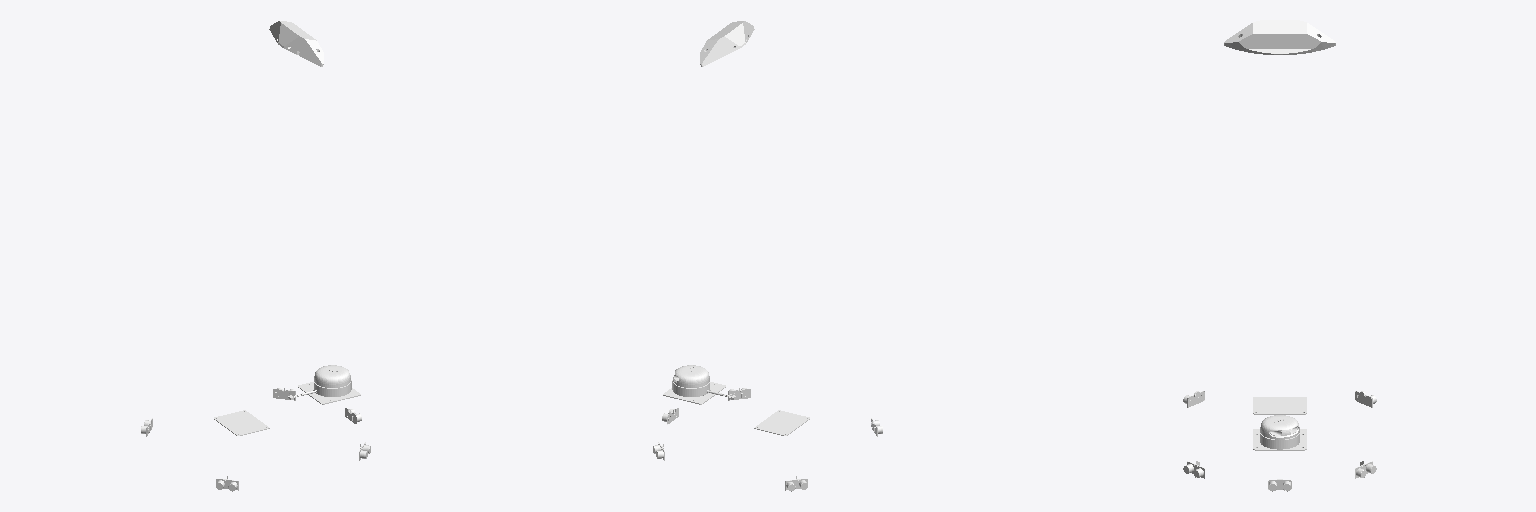
robot.urdf — xtark_description:
<?xml version="1.0" encoding="utf-8"?>
<!-- This URDF was automatically created by SolidWorks to URDF Exporter! Originally created by Stephen Brawner ([email redacted]) 
     Commit Version: 1.6.0-1-g15f4949  Build Version: 1.6.7594.29634
     For more information, please see http://wiki.ros.org/sw_urdf_exporter -->
<robot
  name="xtark_description">
  <link
    name="base_link">
    <visual>
      <origin
        xyz="0 0 0"
        rpy="0 0 0" />
      <geometry>
        <mesh
          filename="package://xtark_description/meshes/base_link.STL" />
      </geometry>
      <material
        name="">
        <color
          rgba="0.89804 0.91765 0.92941 1" />
      </material>
    </visual>
    <collision>
      <origin
        xyz="0 0 0"
        rpy="0 0 0" />
      <geometry>
        <mesh
          filename="package://xtark_description/meshes/base_link.STL" />
      </geometry>
    </collision>
  </link>
   <link
          name="base_footprint"/>
  <joint
      name="base_footprint_joint"
      type="fixed">
      <origin
        xyz="0 0 -0.06"
        rpy="0 0 0" />
      <parent
        link="base_link" />
      <child
        link="base_footprint" />
  </joint>
  <link
    name="laser">
    <inertial>
      <origin
        xyz="-0.00140700524011977 0.000833758220548153 -0.010351045304507"
        rpy="0 0 0" />
      <mass
        value="0.0613730463460779" />
      <inertia
        ixx="3.12015849790788E-05"
        ixy="7.04150622406887E-07"
        ixz="-1.08649445088874E-07"
        iyy="2.64093008021745E-05"
        iyz="-5.42268690361595E-08"
        izz="5.61220060035833E-05" />
    </inertial>
    <visual>
      <origin
        xyz="0 0 0"
        rpy="0 0 0" />
      <geometry>
        <mesh
          filename="package://xtark_description/meshes/laser_link.STL" />
      </geometry>
      <material
        name="">
        <color
          rgba="1 1 1 1" />
      </material>
    </visual>
    <collision>
      <origin
        xyz="0 0 0"
        rpy="0 0 0" />
      <geometry>
        <mesh
          filename="package://xtark_description/meshes/laser_link.STL" />
      </geometry>
    </collision>
  </link>
  <joint
    name="laser_joint"
    type="fixed">
    <origin
      xyz="0.175 0 0.1235"
      rpy="0 0 0" />
    <parent
      link="base_link" />
    <child
      link="laser" />
    <axis
      xyz="0 0 0" />
  </joint>
  <link
    name="sonar0_link">
    <inertial>
      <origin
        xyz="0.00313195281454717 3.67042757588587E-05 0.000104130502142738"
        rpy="0 0 0" />
      <mass
        value="0.0061464228716814" />
      <inertia
        ixx="1.22261543132903E-06"
        ixy="1.48488855495956E-09"
        ixz="4.86527440808979E-09"
        iyy="2.31708371863193E-07"
        iyz="-7.84828158726977E-10"
        izz="1.20791259844664E-06" />
    </inertial>
    <visual>
      <origin
        xyz="0 0 0"
        rpy="0 0 0" />
      <geometry>
        <mesh
          filename="package://xtark_description/meshes/sonar0_link.STL" />
      </geometry>
      <material
        name="">
        <color
          rgba="1 1 1 1" />
      </material>
    </visual>
    <collision>
      <origin
        xyz="0 0 0"
        rpy="0 0 0" />
      <geometry>
        <mesh
          filename="package://xtark_description/meshes/sonar0_link.STL" />
      </geometry>
    </collision>
  </link>
  <joint
    name="sonar0_joint"
    type="fixed">
    <origin
      xyz="0.15556 0.15556 0.0302"
      rpy="0 0 0.7854" />
    <parent
      link="base_link" />
    <child
      link="sonar0_link" />
    <axis
      xyz="0 0 0" />
  </joint>
  <link
    name="sonar1_link">
    <inertial>
      <origin
        xyz="0.00313195281454715 3.67042757567909E-05 0.000104130502141156"
        rpy="0 0 0" />
      <mass
        value="0.00614642287168138" />
      <inertia
        ixx="1.22261543132902E-06"
        ixy="1.48488855496362E-09"
        ixz="4.86527440808988E-09"
        iyy="2.31708371863192E-07"
        iyz="-7.84828158716788E-10"
        izz="1.20791259844664E-06" />
    </inertial>
    <visual>
      <origin
        xyz="0 0 0"
        rpy="0 0 0" />
      <geometry>
        <mesh
          filename="package://xtark_description/meshes/sonar1_link.STL" />
      </geometry>
      <material
        name="">
        <color
          rgba="1 1 1 1" />
      </material>
    </visual>
    <collision>
      <origin
        xyz="0 0 0"
        rpy="0 0 0" />
      <geometry>
        <mesh
          filename="package://xtark_description/meshes/sonar1_link.STL" />
      </geometry>
    </collision>
  </link>
  <joint
    name="sonar1_joint"
    type="fixed">
    <origin
      xyz="0.22 0 0.0302"
      rpy="0 0 0" />
    <parent
      link="base_link" />
    <child
      link="sonar1_link" />
    <axis
      xyz="0 0 0" />
  </joint>
  <link
    name="sonar2_link">
    <inertial>
      <origin
        xyz="0.00313195281454734 3.67042757566938E-05 0.000104130502141524"
        rpy="0 0 0" />
      <mass
        value="0.00614642287168139" />
      <inertia
        ixx="1.22261543132902E-06"
        ixy="1.48488855495956E-09"
        ixz="4.86527440809172E-09"
        iyy="2.31708371863192E-07"
        iyz="-7.84828158839553E-10"
        izz="1.20791259844664E-06" />
    </inertial>
    <visual>
      <origin
        xyz="0 0 0"
        rpy="0 0 0" />
      <geometry>
        <mesh
          filename="package://xtark_description/meshes/sonar2_link.STL" />
      </geometry>
      <material
        name="">
        <color
          rgba="1 1 1 1" />
      </material>
    </visual>
    <collision>
      <origin
        xyz="0 0 0"
        rpy="0 0 0" />
      <geometry>
        <mesh
          filename="package://xtark_description/meshes/sonar2_link.STL" />
      </geometry>
    </collision>
  </link>
  <joint
    name="sonar2_joint"
    type="fixed">
    <origin
      xyz="0.15556 -0.15556 0.0302"
      rpy="0 0 -0.7854" />
    <parent
      link="base_link" />
    <child
      link="sonar2_link" />
    <axis
      xyz="0 0 0" />
  </joint>
  <link
    name="sonar3_link">
    <inertial>
      <origin
        xyz="0.00313195281454637 3.67042757553615E-05 0.000104130502225339"
        rpy="0 0 0" />
      <mass
        value="0.00614642287168139" />
      <inertia
        ixx="1.22261543132894E-06"
        ixy="1.48488855499123E-09"
        ixz="4.86527440820946E-09"
        iyy="2.31708371863185E-07"
        iyz="-7.84828154389274E-10"
        izz="1.20791259844672E-06" />
    </inertial>
    <visual>
      <origin
        xyz="0 0 0"
        rpy="0 0 0" />
      <geometry>
        <mesh
          filename="package://xtark_description/meshes/sonar3_link.STL" />
      </geometry>
      <material
        name="">
        <color
          rgba="1 1 1 1" />
      </material>
    </visual>
    <collision>
      <origin
        xyz="0 0 0"
        rpy="0 0 0" />
      <geometry>
        <mesh
          filename="package://xtark_description/meshes/sonar3_link.STL" />
      </geometry>
    </collision>
  </link>
  <joint
    name="sonar3_joint"
    type="fixed">
    <origin
      xyz="-0.15556 -0.15556 0.0302"
      rpy="0 0 -2.3562" />
    <parent
      link="base_link" />
    <child
      link="sonar3_link" />
    <axis
      xyz="0 0 0" />
  </joint>
  <link
    name="sonar4_link">
    <inertial>
      <origin
        xyz="0.00313195281454703 3.67042757580816E-05 0.00010413050214237"
        rpy="0 0 0" />
      <mass
        value="0.0061464228716814" />
      <inertia
        ixx="1.22261543132903E-06"
        ixy="1.48488855495932E-09"
        ixz="4.865274408088E-09"
        iyy="2.31708371863193E-07"
        iyz="-7.84828158594938E-10"
        izz="1.20791259844664E-06" />
    </inertial>
    <visual>
      <origin
        xyz="0 0 0"
        rpy="0 0 0" />
      <geometry>
        <mesh
          filename="package://xtark_description/meshes/sonar4_link.STL" />
      </geometry>
      <material
        name="">
        <color
          rgba="1 1 1 1" />
      </material>
    </visual>
    <collision>
      <origin
        xyz="0 0 0"
        rpy="0 0 0" />
      <geometry>
        <mesh
          filename="package://xtark_description/meshes/sonar4_link.STL" />
      </geometry>
    </collision>
  </link>
  <joint
    name="sonar4_joint"
    type="fixed">
    <origin
      xyz="-0.15556 0.15556 0.0302"
      rpy="0 0 2.3562" />
    <parent
      link="base_link" />
    <child
      link="sonar4_link" />
    <axis
      xyz="0 0 0" />
  </joint>
  <link
    name="imu_link">
    <inertial>
      <origin
        xyz="-0.017 0.00599999999999995 -0.000800000000000009"
        rpy="0 0 0" />
      <mass
        value="0.0115393670801753" />
      <inertia
        ixx="5.22832974000795E-06"
        ixy="-1.29246970711411E-22"
        ixz="6.96721951491454E-25"
        iyy="9.16033038596997E-06"
        iyz="9.12554295159614E-25"
        izz="1.43837366626904E-05" />
    </inertial>
    <visual>
      <origin
        xyz="0 0 0"
        rpy="0 0 0" />
      <geometry>
        <mesh
          filename="package://xtark_description/meshes/imu_link.STL" />
      </geometry>
      <material
        name="">
        <color
          rgba="1 1 1 1" />
      </material>
    </visual>
    <collision>
      <origin
        xyz="0 0 0"
        rpy="0 0 0" />
      <geometry>
        <mesh
          filename="package://xtark_description/meshes/imu_link.STL" />
      </geometry>
    </collision>
  </link>
  <joint
    name="imu_joint"
    type="fixed">
    <origin
      xyz="-0.039 -0.017 0.0742"
      rpy="0 0 -1.5708" />
    <parent
      link="base_link" />
    <child
      link="imu_link" />
    <axis
      xyz="0 0 0" />
  </joint>
  <link
    name="camera_link">
    <inertial>
      <origin
        xyz="0 0 0"
        rpy="0 0 0" />
      <mass
        value="0" />
      <inertia
        ixx="0"
        ixy="0"
        ixz="0"
        iyy="0"
        iyz="0"
        izz="0" />
    </inertial>
    <visual>
      <origin
        xyz="0 0 0"
        rpy="0 0 0" />
      <geometry>
        <mesh
          filename="package://xtark_description/meshes/camera_link.STL" />
      </geometry>
      <material
        name="">
        <color
          rgba="1 1 1 1" />
      </material>
    </visual>
    <collision>
      <origin
        xyz="0 0 0"
        rpy="0 0 0" />
      <geometry>
        <mesh
          filename="package://xtark_description/meshes/camera_link.STL" />
      </geometry>
    </collision>
  </link>
  <joint
    name="camera_joint"
    type="fixed">
    <origin
      xyz="0.11 0 0.8802"
      rpy="0 0 0" />
    <parent
      link="base_link" />
    <child
      link="camera_link" />
    <axis
      xyz="0 0 0" />
  </joint>
</robot>

--- What the picture shows (computed from the rendered views, not written in the file) ---
The picture shows the robot from 3 angles, left to right: view 1: azimuth 30°, elevation 25°; view 2: azimuth 150°, elevation 25°; view 3: azimuth 270°, elevation 25°; orthographic projection.
Robot: xtark_description — 10 links, 9 joints (9 fixed); root link base_link; default pose: all joints at 0.
Visible links, largest first — view 1: laser, camera_link, imu_link; view 2: laser, camera_link, imu_link; view 3: camera_link, laser, imu_link.
Boxes of the visible links, left/top/right/bottom form: laser: left=288, top=365, right=360, bottom=404; camera_link: left=269, top=21, right=323, bottom=66; imu_link: left=214, top=410, right=269, bottom=435; laser: left=663, top=365, right=735, bottom=404; camera_link: left=700, top=21, right=754, bottom=66; imu_link: left=754, top=410, right=809, bottom=435; camera_link: left=1224, top=20, right=1335, bottom=54; laser: left=1253, top=415, right=1306, bottom=450; imu_link: left=1253, top=397, right=1306, bottom=414.
Size in the robot's own frame: 0.4085 by 0.3555 by 0.8872 metres.
8 mesh visuals loaded from 9 distinct referenced files (8 binary STL); not drawn: 1 (reference not matched to a file when rendering).
